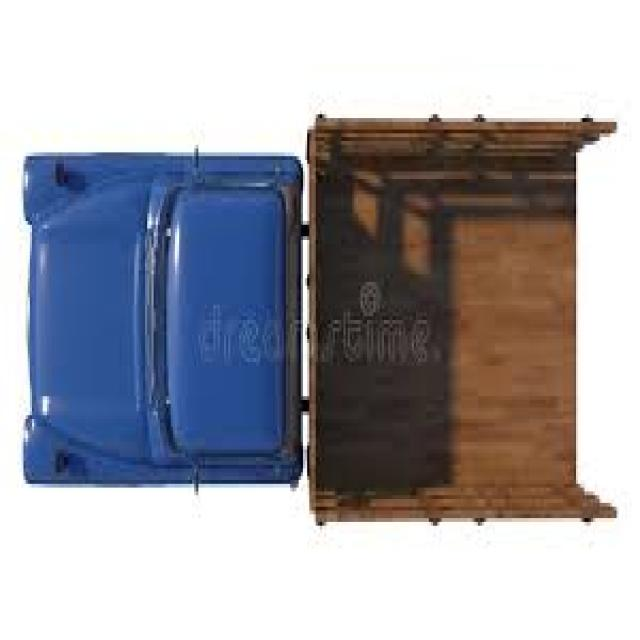truck: (19, 117, 610, 524)
